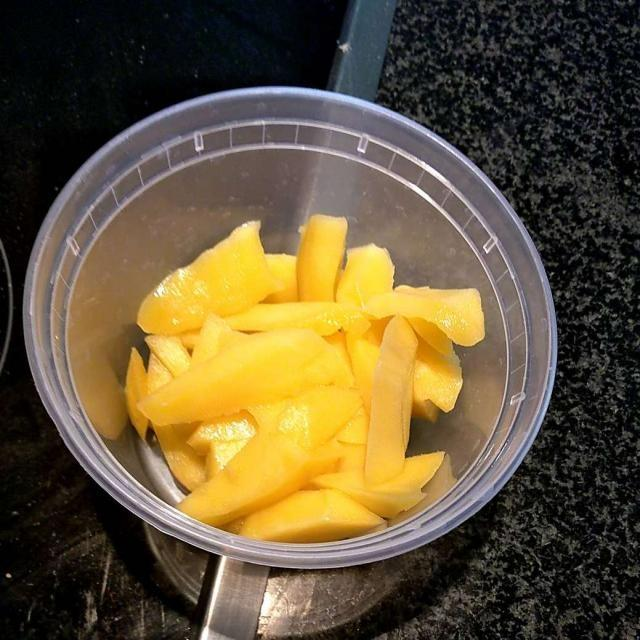mango: (124, 220, 486, 540)
